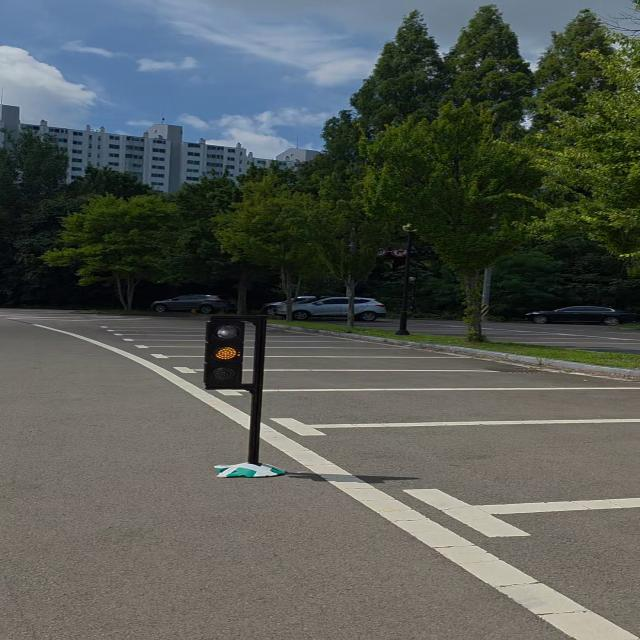yellow: (203, 314, 247, 394)
